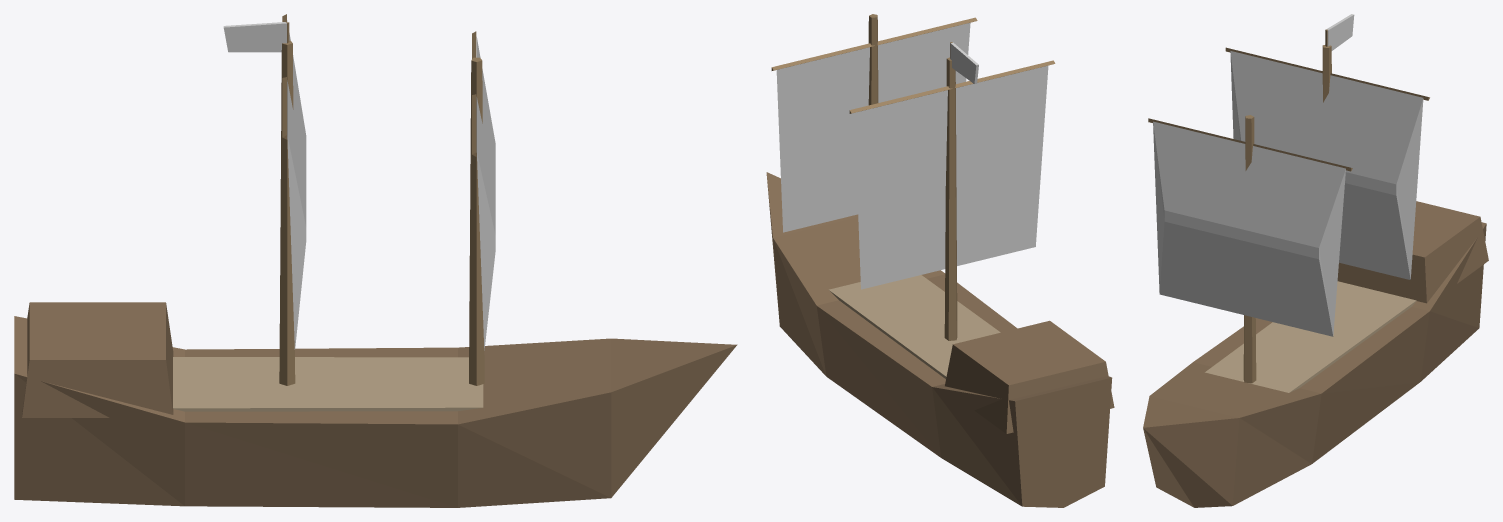
The model's file is nau.glb.
The picture shows the model from 3 angles, left to right: view 1: azimuth 30°, elevation 25°; view 2: azimuth 150°, elevation 25°; view 3: azimuth 270°, elevation 25°; orthographic projection. The views are drawn at different scales.
Visible parts, largest first — view 1: LOD0; view 2: LOD0; view 3: LOD0.
Boxes of the visible parts, x1,y1,x2,y2 form: LOD0: [14, 14, 737, 507]; LOD0: [766, 14, 1114, 507]; LOD0: [1143, 14, 1488, 507].
Size of what is drawn, in the model's own units: 1.74 by 1.36 by 1.12.
